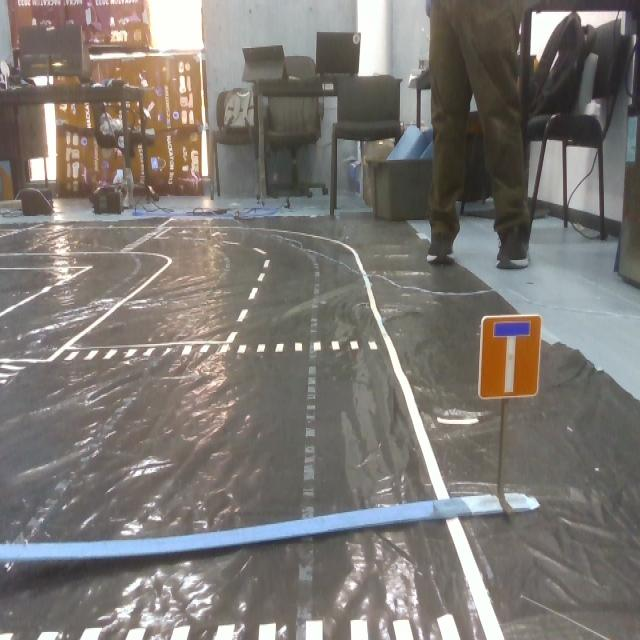stop: (478, 312, 548, 408)
